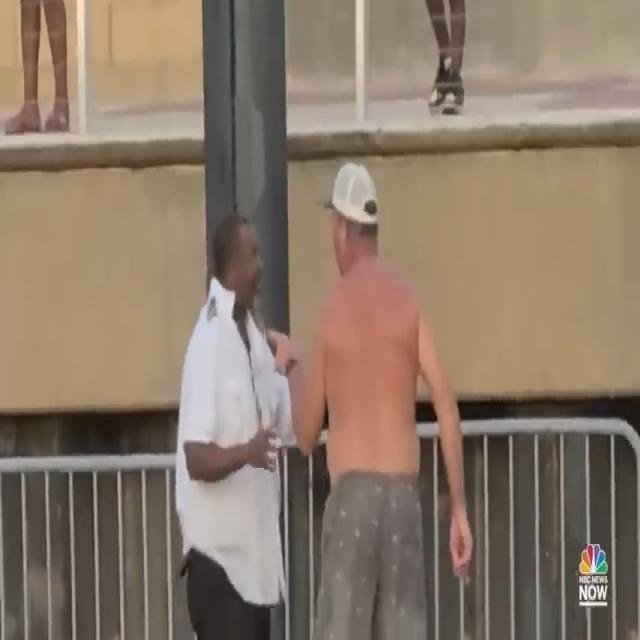non-fight: (151, 145, 489, 640)
